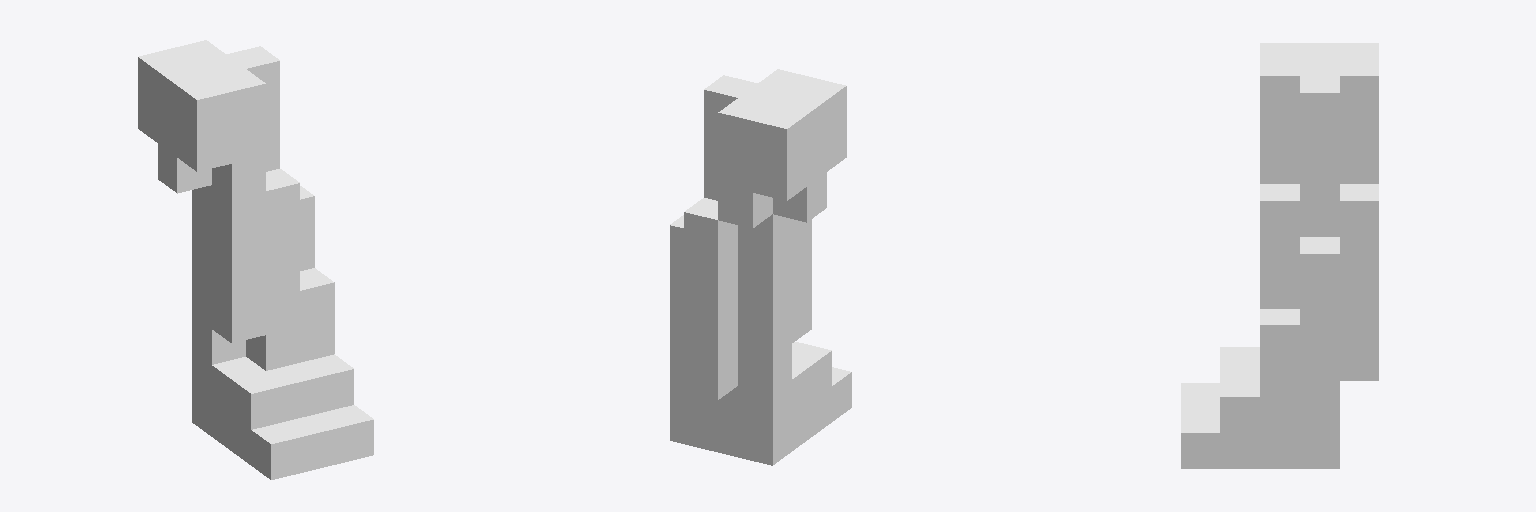
The model's file is Leg-L.obj.
The picture shows the model from 3 angles: view 1: azimuth 30°, elevation 25°; view 2: azimuth 150°, elevation 25°; view 3: azimuth 270°, elevation 25°; orthographic projection.
Visible parts, largest first — view 1: object 1; view 2: object 1; view 3: object 1.
Part boxes in pixels (x1,y1,x2,y2): object 1: (138, 40, 373, 479); object 1: (670, 69, 851, 465); object 1: (1181, 43, 1378, 468).
Size of the model in its own units: 0.4 by 1 by 0.5.